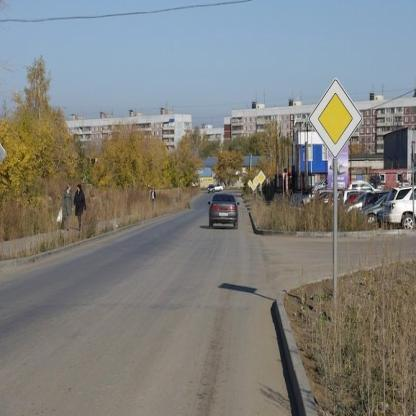road_sign: (310, 80, 362, 157)
